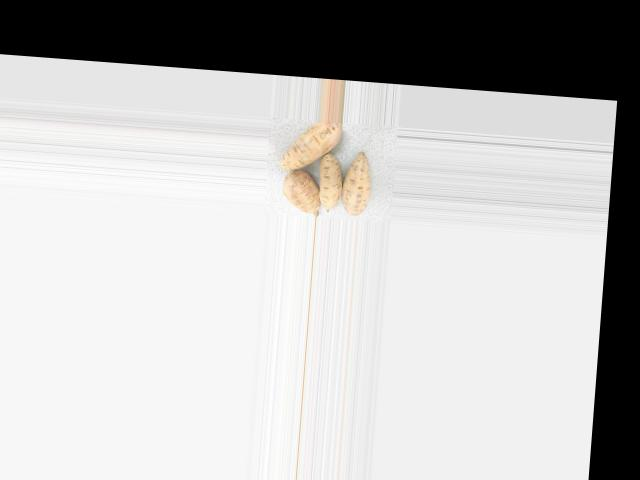sweet_potato: (273, 117, 349, 174)
